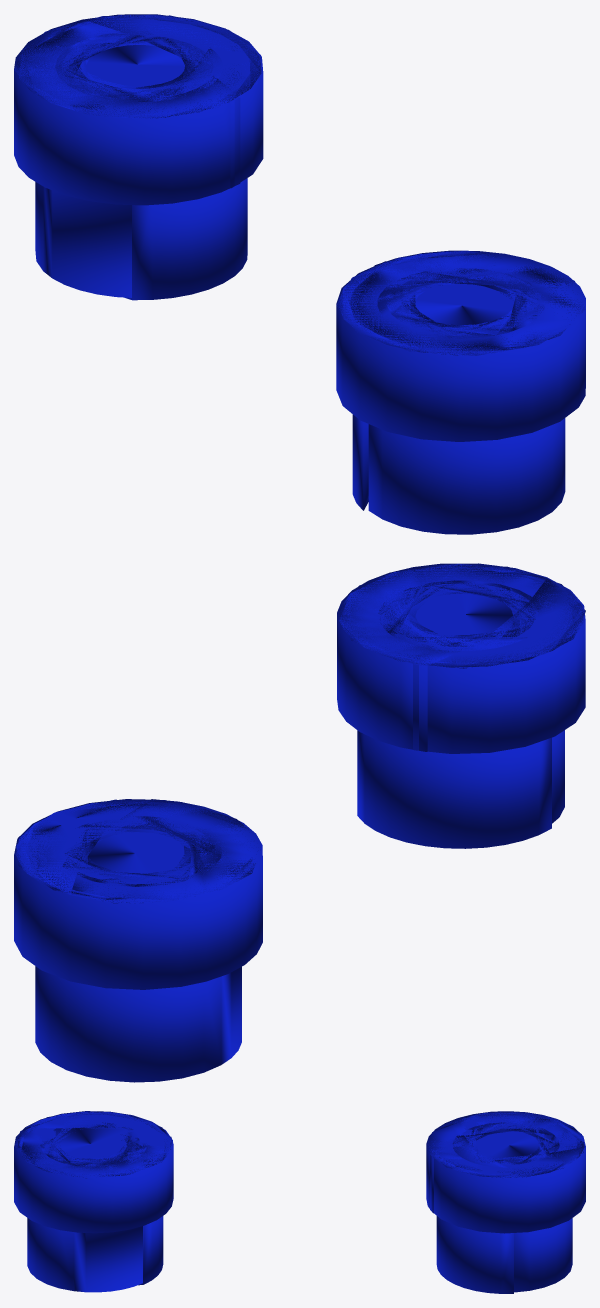
The model's file is tuyeau_element_000039.obj.
The picture shows the model from 3 angles, top to bottom: view 1: azimuth 30°, elevation 25°; view 2: azimuth 150°, elevation 25°; view 3: azimuth 270°, elevation 25°; orthographic projection. The views are drawn at different scales.
Visible parts, largest first — view 1: tuyeau1_Cube.014, tuyeau2_Cube.017; view 2: tuyeau2_Cube.017, tuyeau1_Cube.014; view 3: tuyeau1_Cube.014, tuyeau2_Cube.017.
Boxes of the visible parts, x1,y1,x2,y2 form: tuyeau1_Cube.014: [14, 14, 263, 300]; tuyeau2_Cube.017: [336, 250, 585, 534]; tuyeau2_Cube.017: [337, 563, 585, 848]; tuyeau1_Cube.014: [14, 799, 262, 1082]; tuyeau1_Cube.014: [426, 1111, 585, 1293]; tuyeau2_Cube.017: [14, 1111, 173, 1292].
Size of the model in its own units: 3536 by 2917 by 12629.
